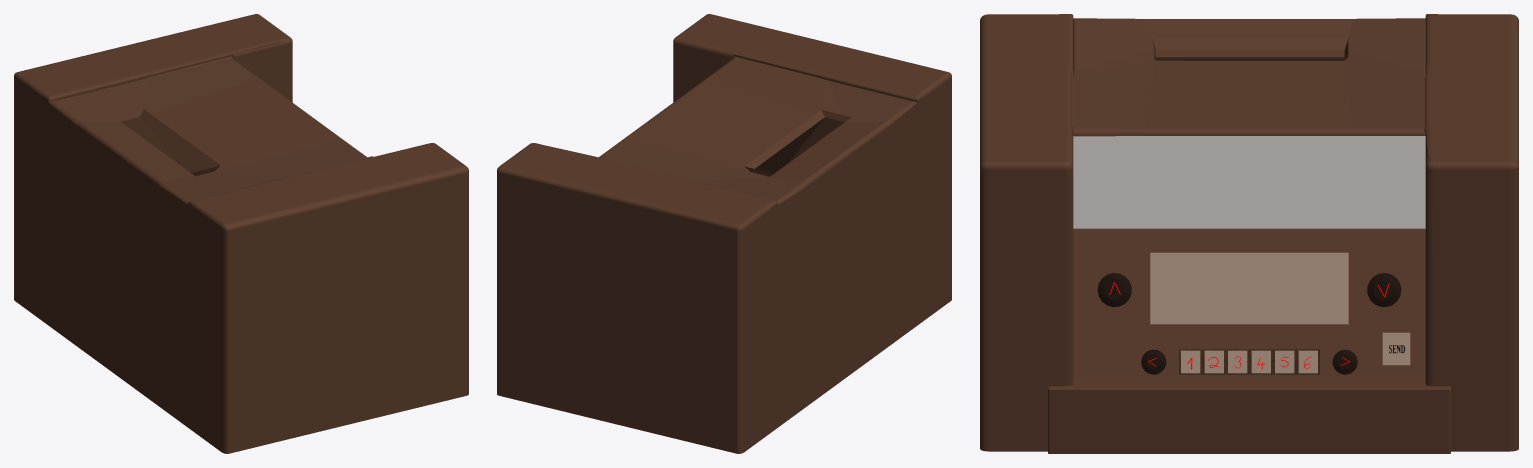
File: radio2.fbx
3 renders of one model, left to right at view 1: azimuth 30°, elevation 25°; view 2: azimuth 150°, elevation 25°; view 3: azimuth 270°, elevation 25°, orthographic. The views are drawn at different scales.
Parts seen in each view (by area): view 1: Rádio; view 2: Rádio; view 3: Rádio, Botão Quadrado singular, Botão grande 1, Botão grande 2, Botão Quadrado 3, Botão Quadrado 5, Botão Quadrado 6, Botão Quadrado 1, Botão Quadrado 2, Botão Quadrado 4.
Boxes of the visible parts, x1,y1,x2,y2 form: Rádio: [14, 14, 468, 453]; Rádio: [497, 14, 951, 453]; Rádio: [980, 14, 1518, 453]; Botão Quadrado singular: [1382, 332, 1410, 365]; Botão grande 1: [1367, 273, 1401, 306]; Botão grande 2: [1097, 273, 1131, 307]; Botão Quadrado 3: [1226, 349, 1249, 374]; Botão Quadrado 5: [1273, 349, 1296, 374]; Botão Quadrado 6: [1296, 349, 1319, 374]; Botão Quadrado 1: [1179, 349, 1202, 374]; Botão Quadrado 2: [1202, 349, 1225, 374]; Botão Quadrado 4: [1249, 349, 1272, 374].
Bounding box in the file's own units: 63.9 × 55.51 × 94.31.
Materials: 26 (11 with a texture image).
